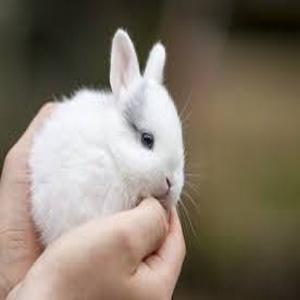rabbit: (29, 32, 186, 249)
